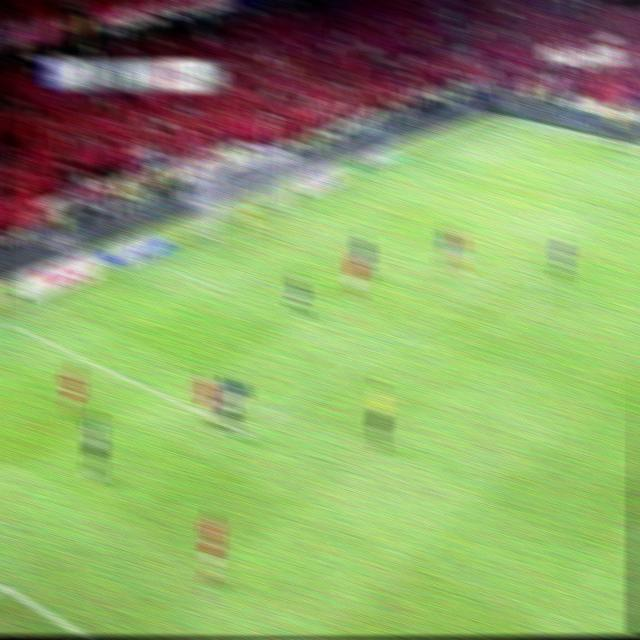bigarea_bottom_inner: (233, 424, 254, 442)
bigarea_bottom_outter: (0, 311, 15, 328)
bigarea_top_inner: (602, 203, 618, 218)
bigarea_top_outter: (406, 150, 428, 166)
bottom_arc_area_intersection: (388, 332, 406, 349)
corner: (494, 118, 511, 127)
smallarea_bottom_inner: (213, 278, 232, 298)
smallarea_bottom_outter: (146, 256, 164, 270)
smallarea_top_inner: (384, 204, 401, 217)
smallarea_top_outter: (322, 182, 350, 204)
top_arc_area_intersection: (516, 256, 532, 271)
